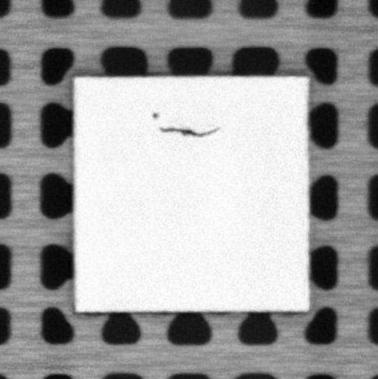DIE_INK: (158, 126, 221, 139), (148, 111, 161, 119)
